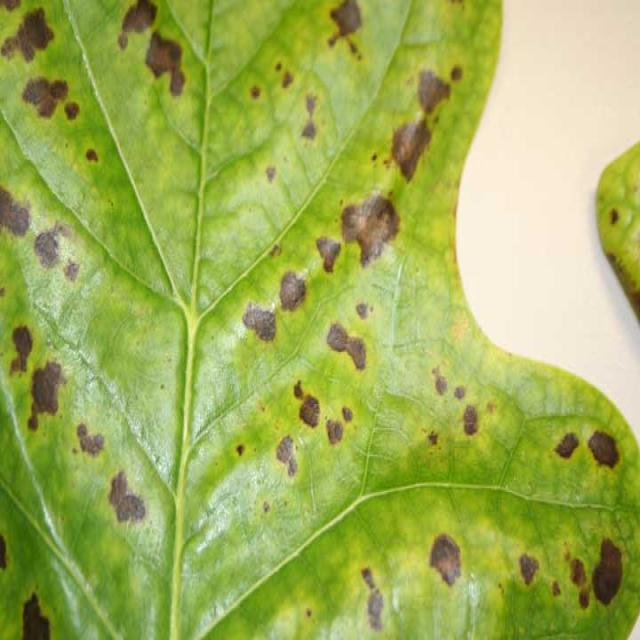Cotton Ball Rot: (337, 187, 402, 272), (424, 528, 465, 592)
Target Spot: (2, 3, 636, 636)
